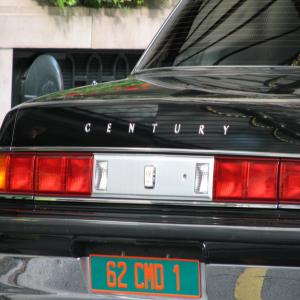Vehicle-registration-plate: (91, 257, 187, 297)
